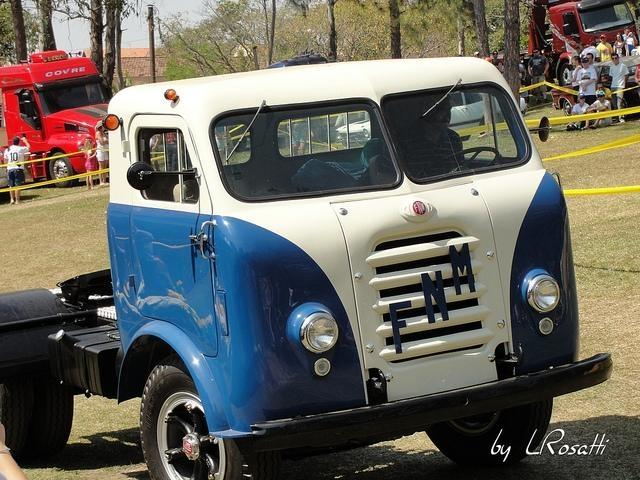truck: (0, 52, 615, 475), (2, 51, 114, 181), (524, 0, 640, 90)
